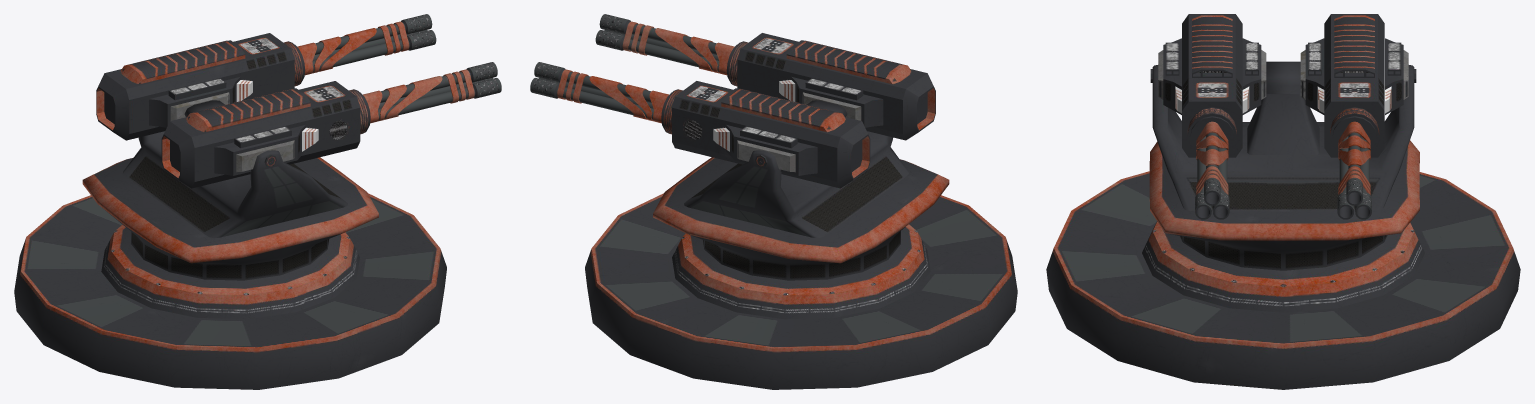
The model's file is MachineGun_2.fbx.
The picture shows the model from 3 angles, left to right: view 1: azimuth 30°, elevation 25°; view 2: azimuth 150°, elevation 25°; view 3: azimuth 270°, elevation 25°; orthographic projection. The views are drawn at different scales.
Visible parts, largest first — view 1: Platforrm_lp, Turret_lp, Axsis_lp; view 2: Platforrm_lp, Turret_lp, Axsis_lp; view 3: Platforrm_lp, Axsis_lp, Turret_lp.
Part boxes in pixels (x1,y1,x2,y2): Platforrm_lp: [14, 193, 446, 389]; Turret_lp: [96, 14, 501, 188]; Axsis_lp: [82, 100, 378, 280]; Platforrm_lp: [585, 193, 1017, 389]; Turret_lp: [530, 14, 935, 188]; Axsis_lp: [653, 100, 949, 280]; Platforrm_lp: [1046, 171, 1520, 389]; Axsis_lp: [1149, 61, 1419, 270]; Turret_lp: [1150, 14, 1416, 219].
Size of the model in its own units: 200 by 112 by 222.
1 material, 1 textured.
